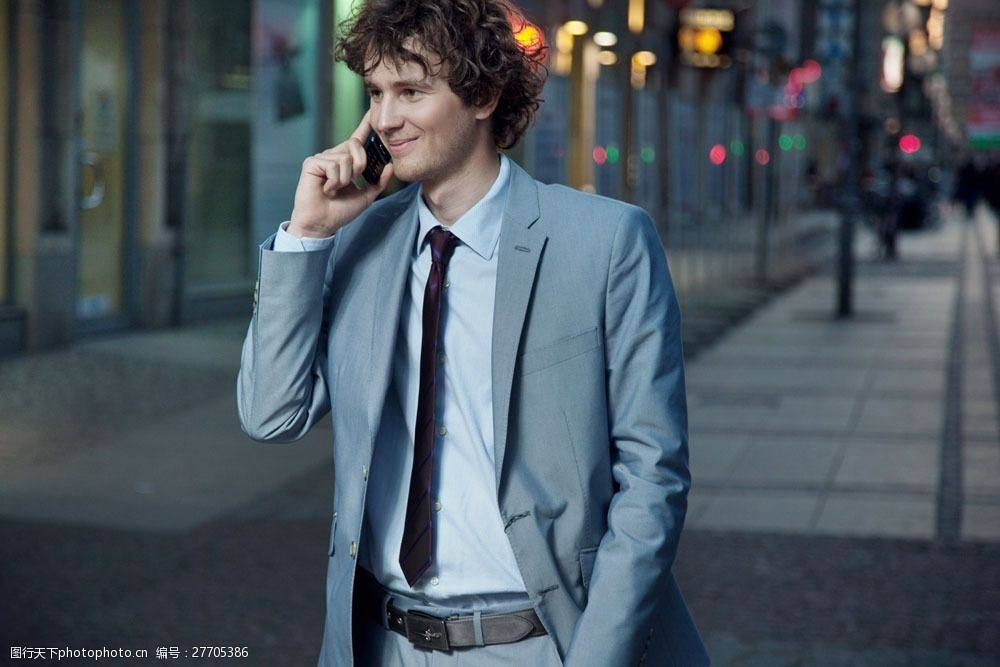calling: (287, 99, 397, 233)
